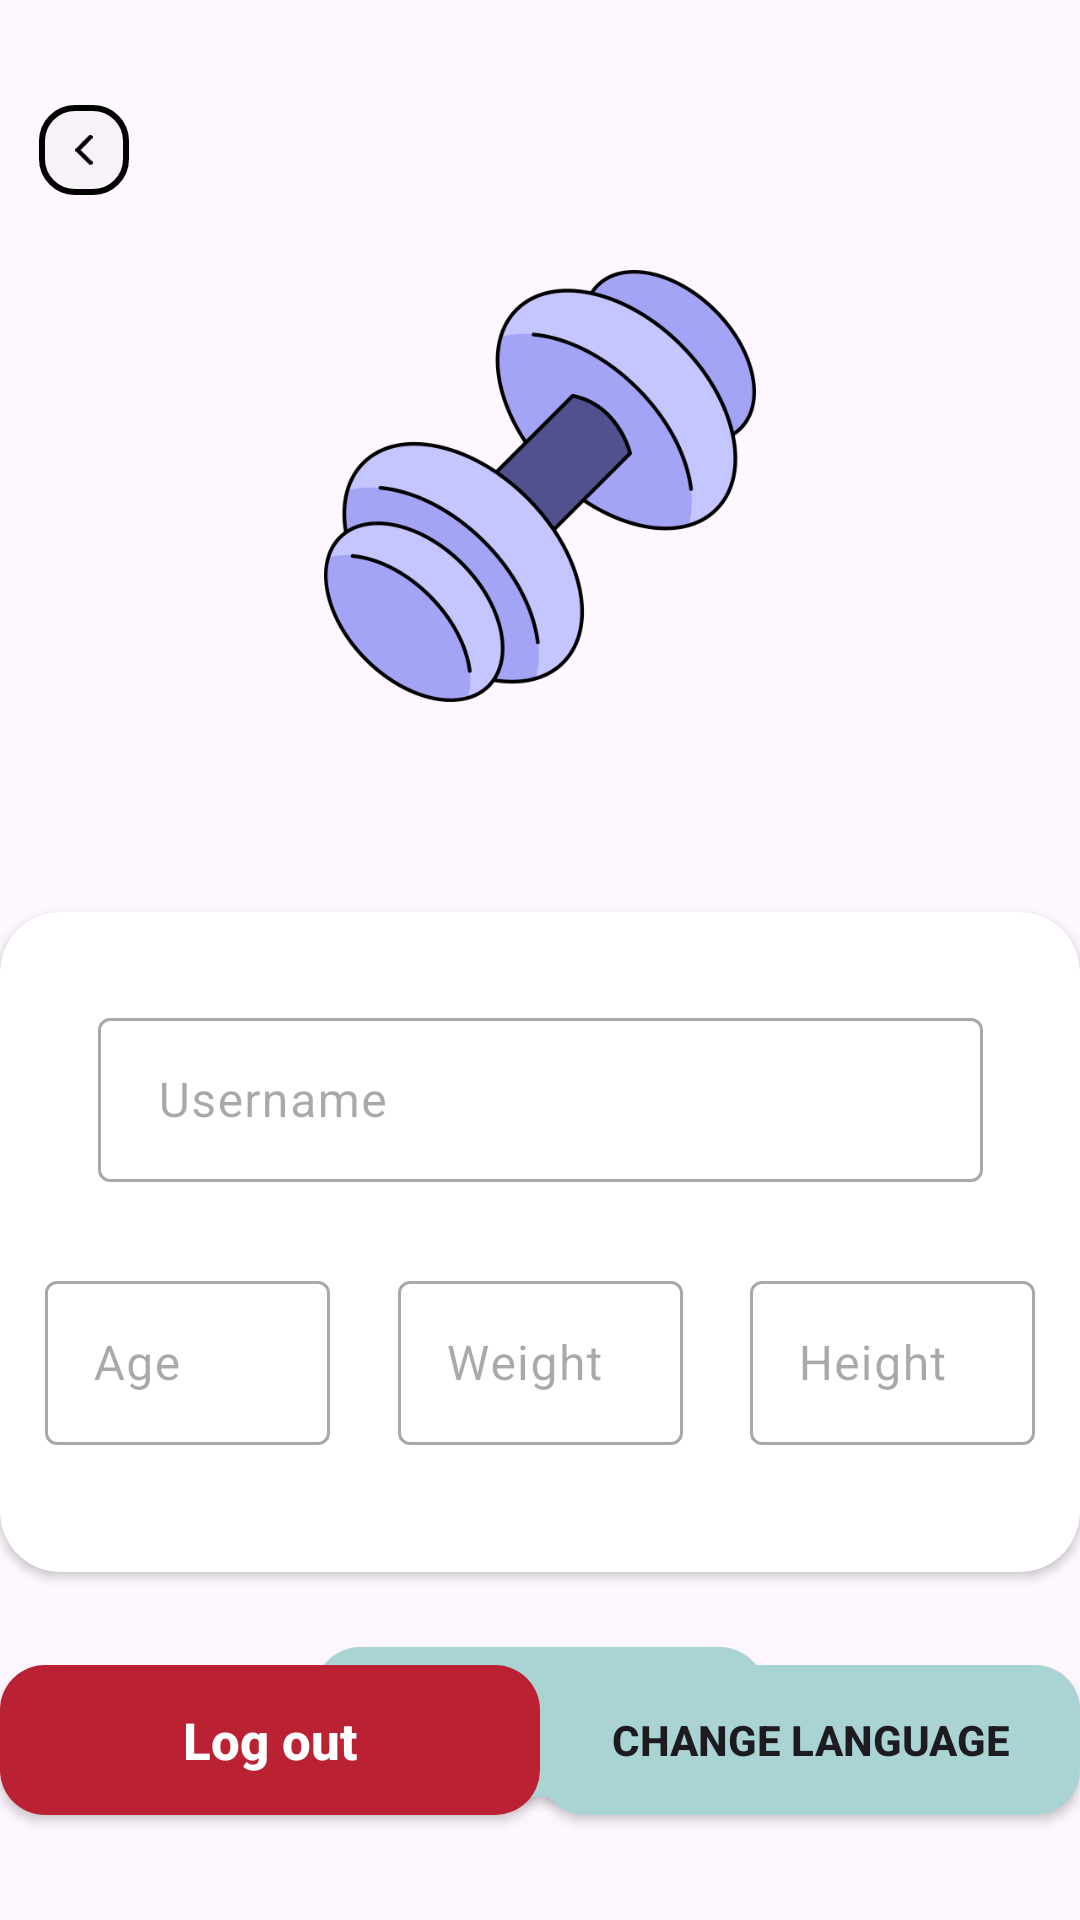

Point at icon controls on the screen. Image size 1080*1920, points as [x,y].
arrow back: [84,150]
